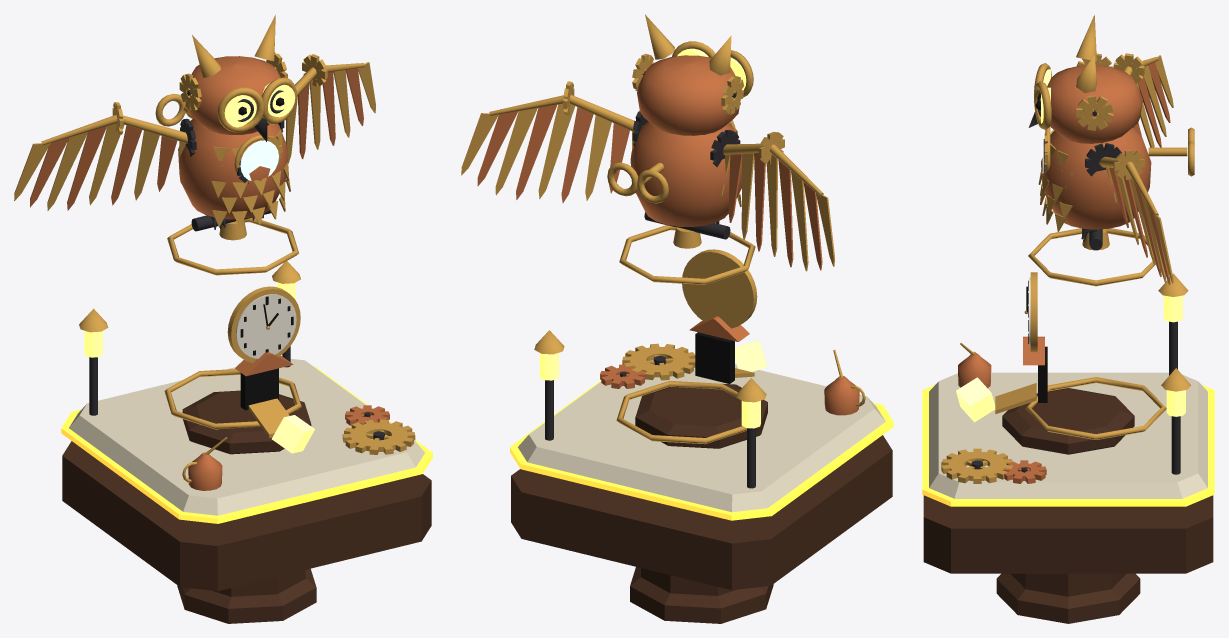
File: ClockworkOwlMine_Roblox.fbx
The picture shows the model from 3 angles, left to right: view 1: azimuth 30°, elevation 25°; view 2: azimuth 150°, elevation 25°; view 3: azimuth 270°, elevation 25°; orthographic projection. The views are drawn at different scales.
Parts seen in each view (by area): view 1: Walnut, Brass, ClockMarble, Copper, AmberTrim, ClockFace, DarkIron, AmberLens, InkBlack, GearOre, Glass; view 2: Walnut, Brass, ClockMarble, Copper, AmberTrim, DarkIron, InkBlack, AmberLens, GearOre; view 3: Walnut, ClockMarble, Brass, Copper, AmberTrim, DarkIron, AmberLens, GearOre, InkBlack.
Boxes of the visible parts, bbox=[...] form: Walnut: bbox=[62, 390, 431, 623]; Brass: bbox=[14, 15, 415, 482]; ClockMarble: bbox=[69, 358, 424, 515]; Copper: bbox=[30, 56, 389, 490]; AmberTrim: bbox=[61, 366, 432, 523]; ClockFace: bbox=[236, 294, 296, 358]; DarkIron: bbox=[89, 90, 384, 440]; AmberLens: bbox=[84, 83, 295, 357]; InkBlack: bbox=[238, 97, 293, 410]; GearOre: bbox=[272, 415, 314, 453]; Glass: bbox=[240, 140, 278, 180]; Walnut: bbox=[511, 384, 892, 623]; Brass: bbox=[461, 14, 865, 444]; ClockMarble: bbox=[518, 359, 885, 512]; Copper: bbox=[477, 55, 859, 415]; AmberTrim: bbox=[510, 367, 893, 520]; DarkIron: bbox=[545, 71, 755, 488]; InkBlack: bbox=[695, 332, 734, 383]; AmberLens: bbox=[539, 48, 760, 428]; GearOre: bbox=[735, 340, 766, 371]; Walnut: bbox=[923, 388, 1213, 623]; ClockMarble: bbox=[929, 372, 1207, 498]; Brass: bbox=[941, 15, 1194, 483]; Copper: bbox=[958, 58, 1170, 483]; AmberTrim: bbox=[922, 385, 1214, 506]; DarkIron: bbox=[971, 93, 1180, 474]; AmberLens: bbox=[1041, 69, 1185, 416]; GearOre: bbox=[956, 377, 995, 422]; InkBlack: bbox=[1026, 101, 1047, 402].
Bounding box in the file's own units: 1507 × 2234 × 1058.
